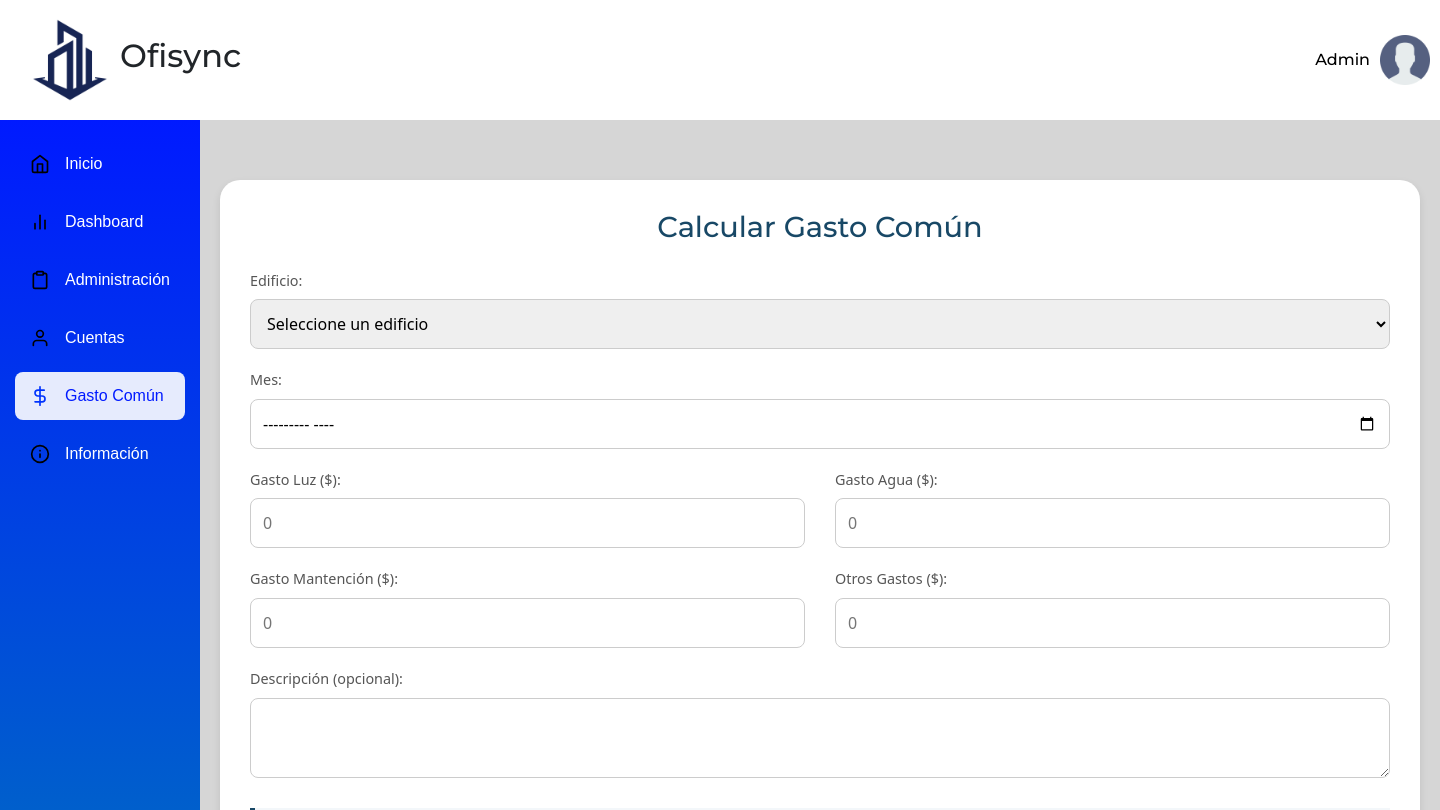
Prueba de Integración de Navegación en App › debería navegar a la página de Administración al hacer clic en el enlace
The image size is (1440, 810).
Buscamos el enlace por su texto exacto
Click the link "Administración" at point(100, 280), box [30,270,170,290]
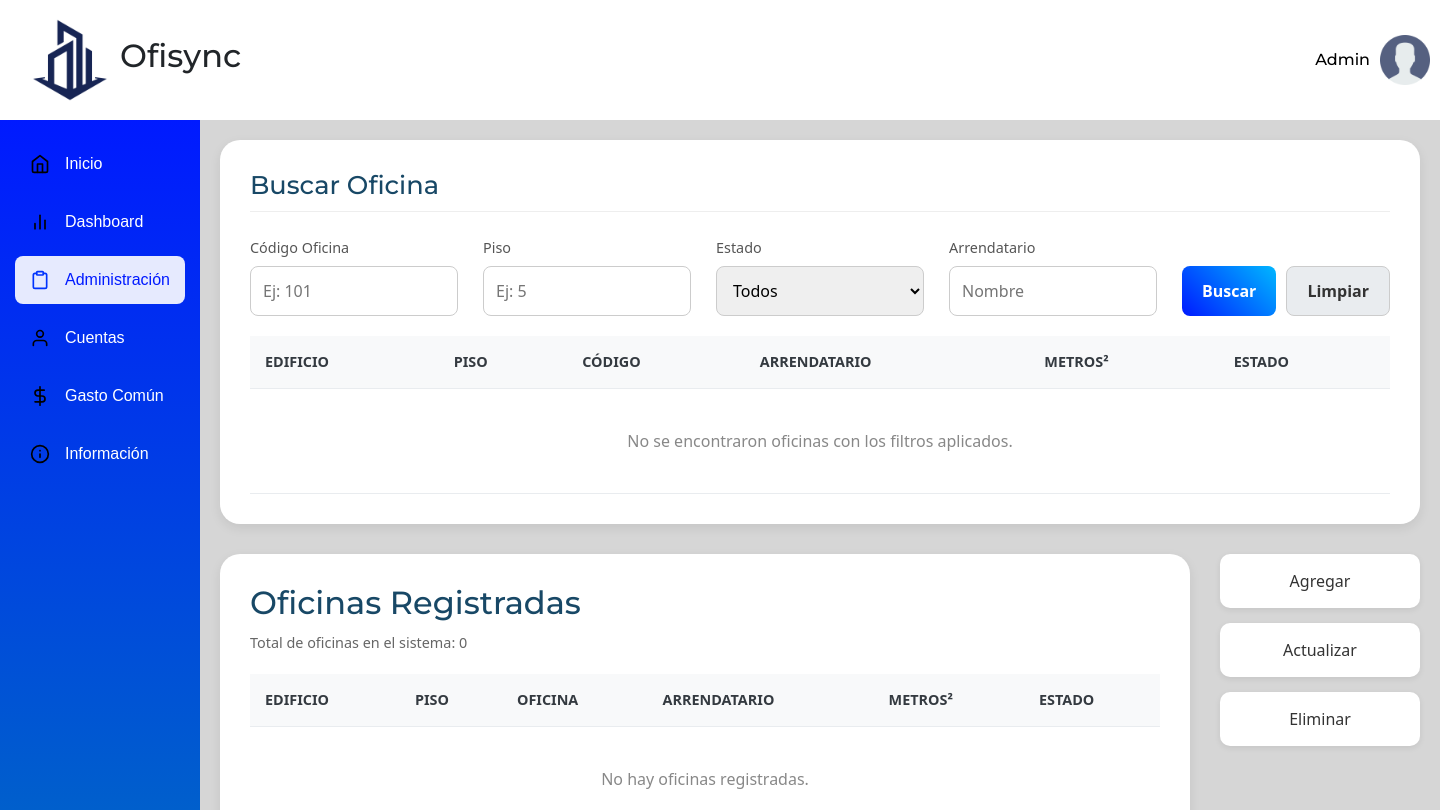
Result: the heading "Buscar Oficina" is shown at [250,170,1390,212]
